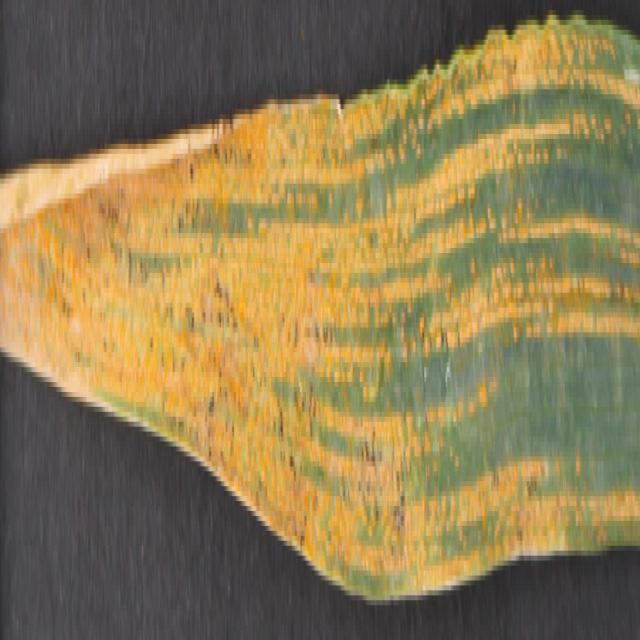leaf rust: (1, 35, 640, 580)
